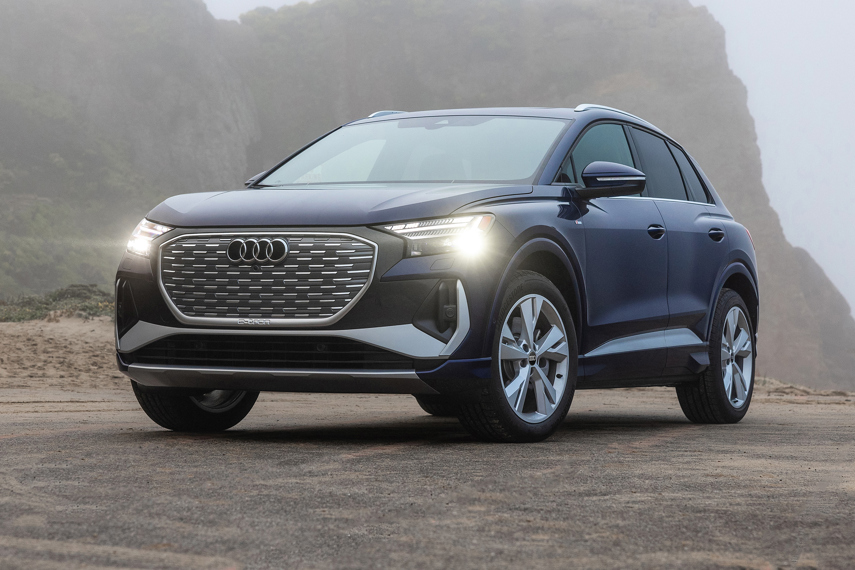car: (105, 97, 767, 449)
